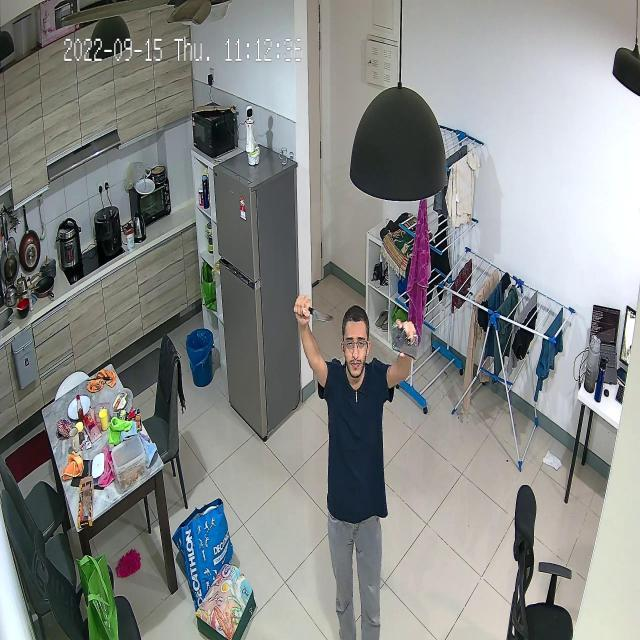Knife: (294, 286, 341, 335)
